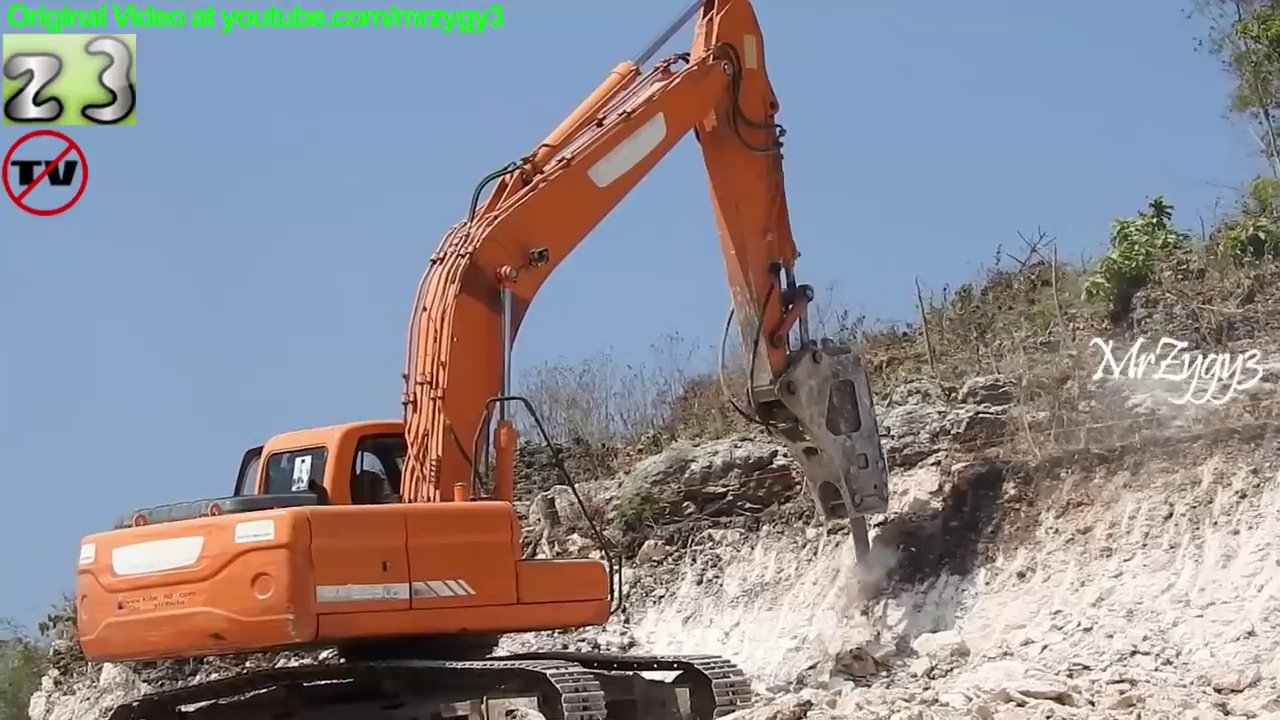excavator: (71, 1, 893, 720)
